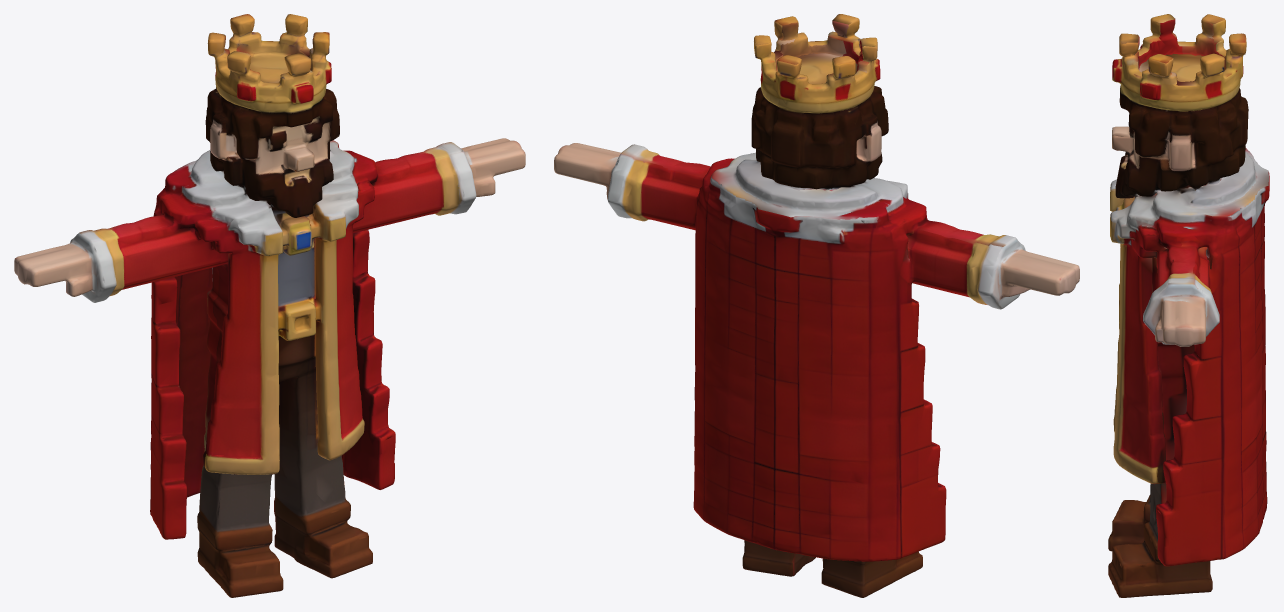
The model's file is king.glb.
3 renders of one model, left to right at view 1: azimuth 30°, elevation 25°; view 2: azimuth 150°, elevation 25°; view 3: azimuth 270°, elevation 25°, orthographic. The views are drawn at different scales.
Parts seen in each view (by area): view 1: texture_pbr_v128; view 2: texture_pbr_v128; view 3: texture_pbr_v128.
Boxes of the visible parts, <box> form: texture_pbr_v128: <box>14,14,525,597</box>; texture_pbr_v128: <box>554,14,1079,597</box>; texture_pbr_v128: <box>1108,14,1269,597</box>.
Size of the model in its own units: 1.13 by 1.13 by 0.3138.
1 material, 1 textured.
